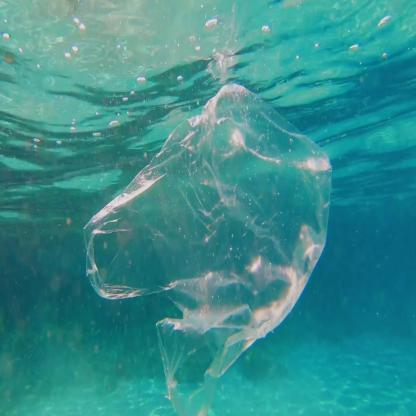Rác: (70, 79, 338, 390)
